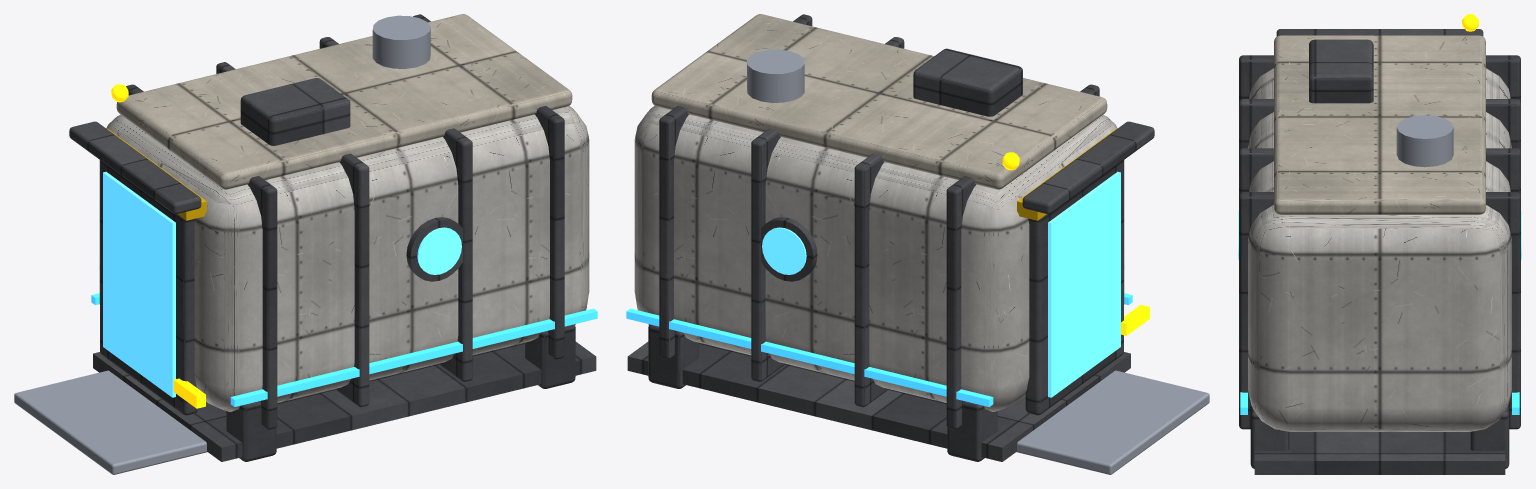
Rendered from Connector.glb.
3 renders of one model, left to right at view 1: azimuth 30°, elevation 25°; view 2: azimuth 150°, elevation 25°; view 3: azimuth 270°, elevation 25°, orthographic. The views are drawn at different scales.
Visible parts, largest first — view 1: SUI_Connector_Mesh; view 2: SUI_Connector_Mesh; view 3: SUI_Connector_Mesh.
Boxes of the visible parts, box(x1,y1,x2,y2) form: SUI_Connector_Mesh: box(14, 14, 597, 474); SUI_Connector_Mesh: box(626, 14, 1209, 474); SUI_Connector_Mesh: box(1238, 14, 1521, 474).
Size of the model in its own units: 4.13 by 2.59 by 2.19.
8 materials, 3 textured.
